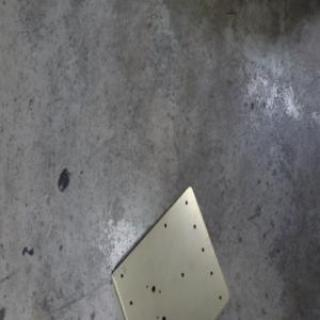MetalSheettrack_idkeyframe: (108, 182, 230, 319)
